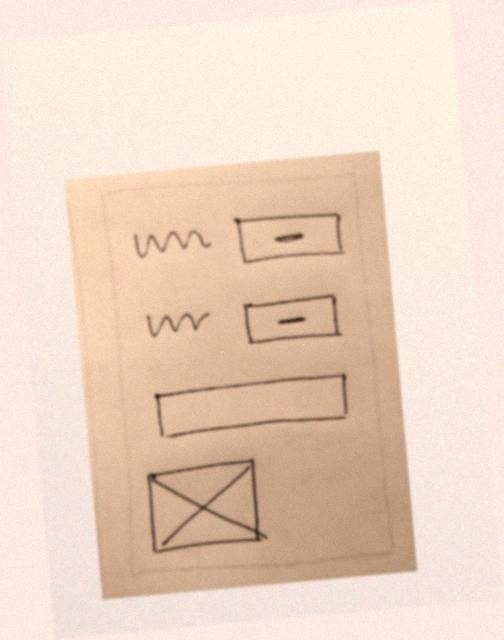button: (227, 204, 349, 273), (236, 290, 349, 354)
image: (138, 452, 270, 558)
text: (130, 222, 214, 270), (140, 302, 215, 345)
text_input: (150, 368, 356, 446)
